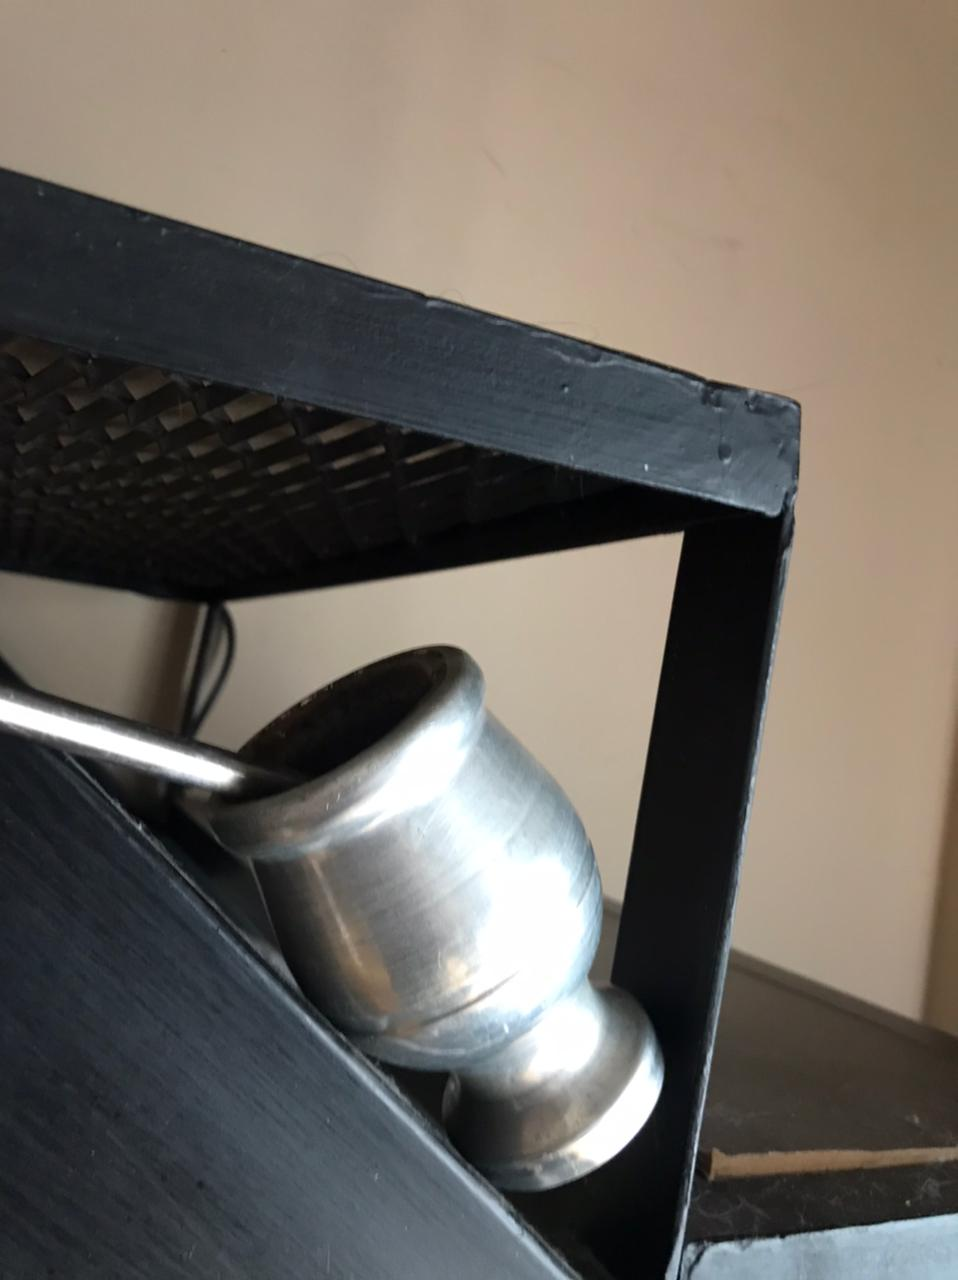mate: (2, 610, 674, 1207)
